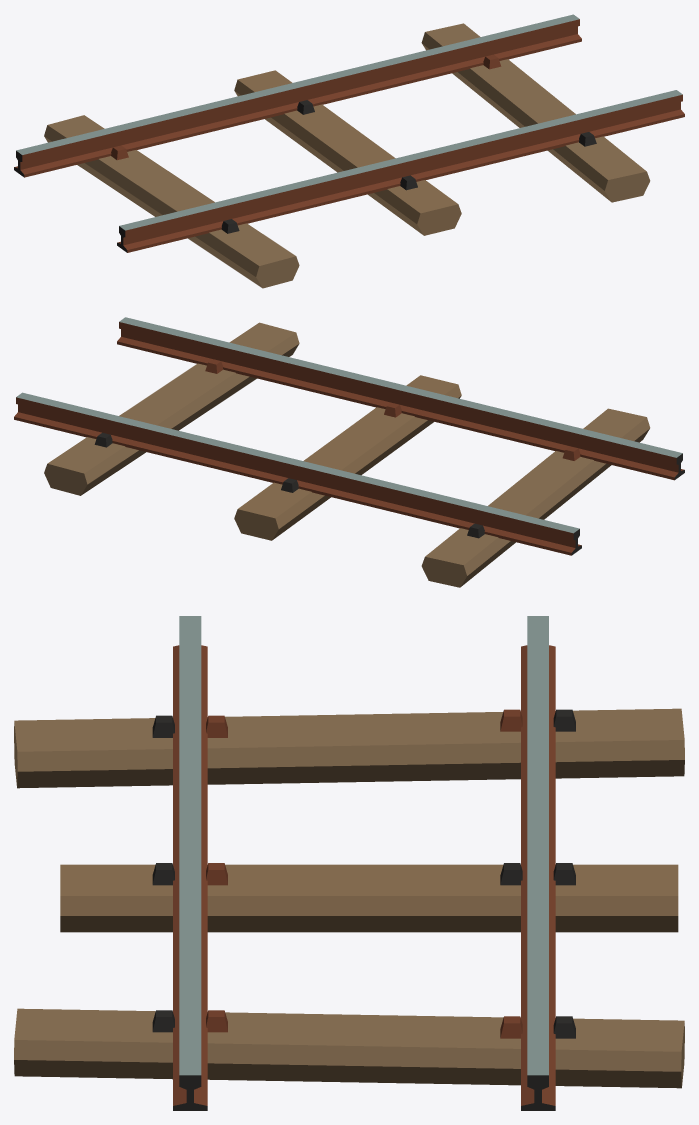
Rendered from mine-rail-run-d4404c.glb.
The picture shows the model from 3 angles, top to bottom: view 1: azimuth 30°, elevation 25°; view 2: azimuth 150°, elevation 25°; view 3: azimuth 270°, elevation 25°; orthographic projection. The views are drawn at different scales.
Visible parts, largest first — view 1: mine-rail; view 2: mine-rail; view 3: mine-rail.
Boxes of the visible parts, <box> form: mine-rail: <box>14,14,684,288</box>; mine-rail: <box>14,317,684,587</box>; mine-rail: <box>14,616,684,1110</box>.
Size of the model in its own units: 2 by 0.15 by 1.23.
